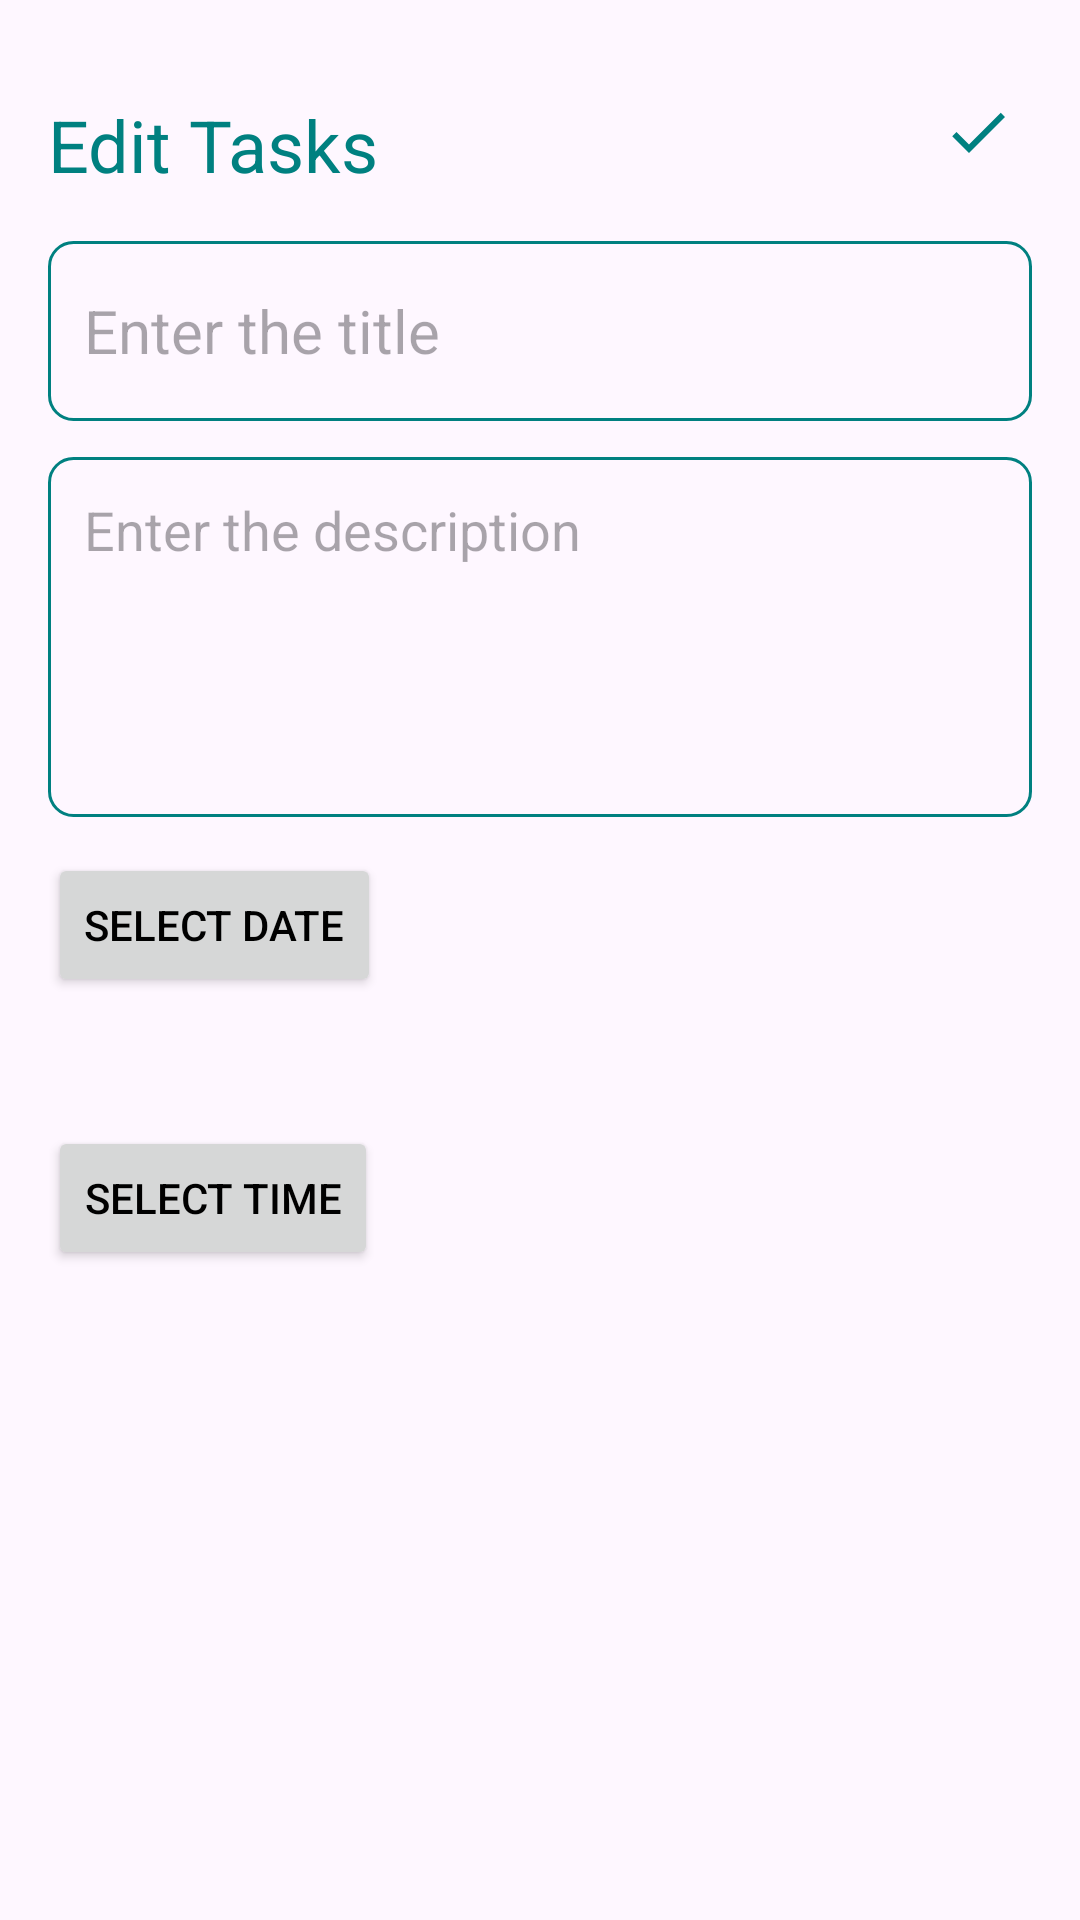

Screen size 1080x1920. Icon name, then its box in pixels as (x1=x1, y1=y1, x2=x2, y2=y2):
check: (x1=952, y1=113, x2=1005, y2=153)
